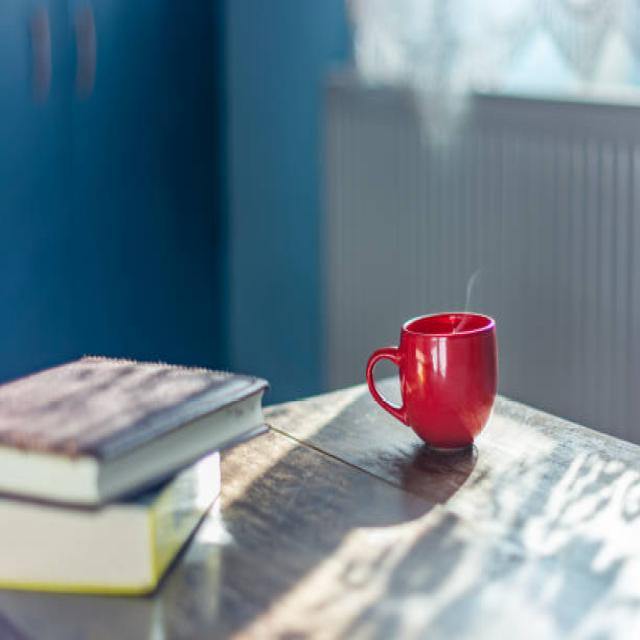Red_cup: (368, 313, 497, 448)
